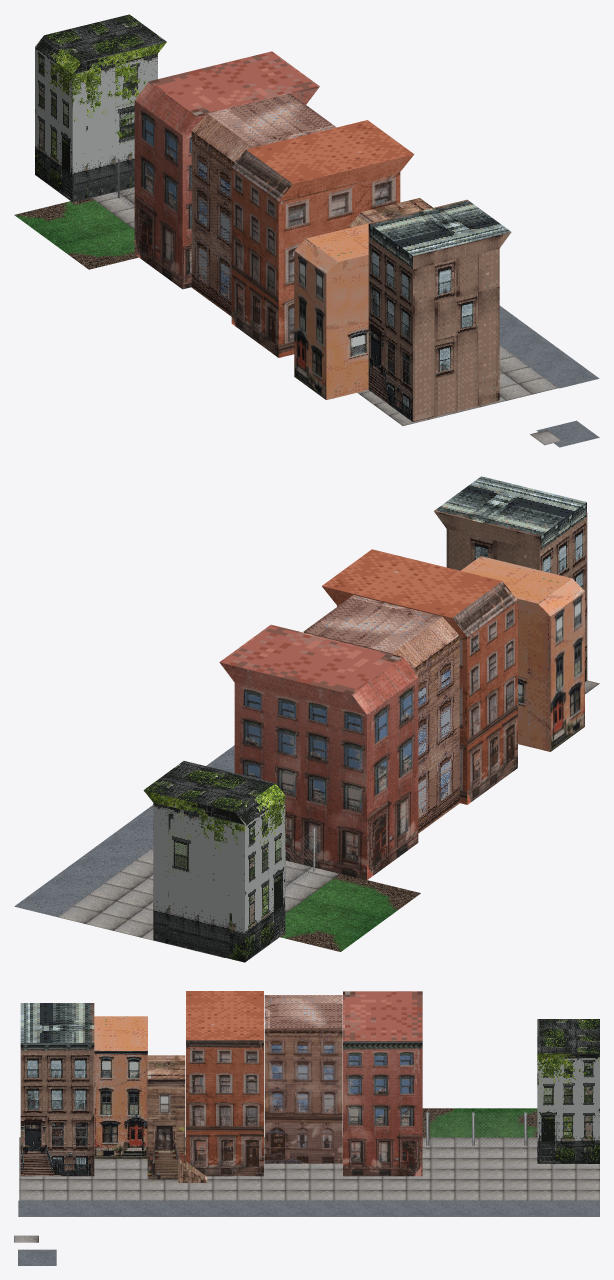
The model's file is brownstonev2.gltf.
3 views of the same model, one above another, from view 1: azimuth 30°, elevation 25°; view 2: azimuth 150°, elevation 25°; view 3: azimuth 270°, elevation 25° (orthographic). The views are drawn at different scales.
Parts seen in each view (by area): view 1: road_small.001; view 2: road_small.001; view 3: road_small.001.
Part boxes in pixels (x1,y1,x2,y2): road_small.001: [14, 14, 599, 447]; road_small.001: [14, 476, 599, 962]; road_small.001: [14, 991, 599, 1265].
Size of the model in its own units: 34.73 by 28.25 by 78.44.
Materials: 12 (12 with a texture image).
